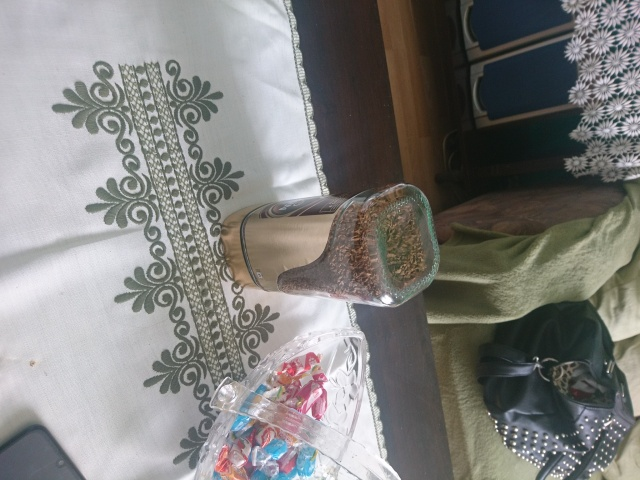Nescafe Gold 225g: (216, 180, 443, 312)
